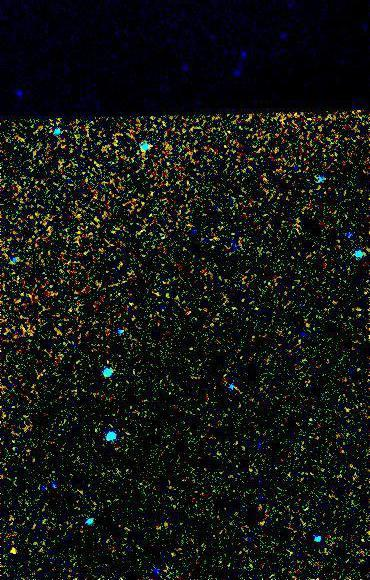star: (1, 534, 31, 564)
